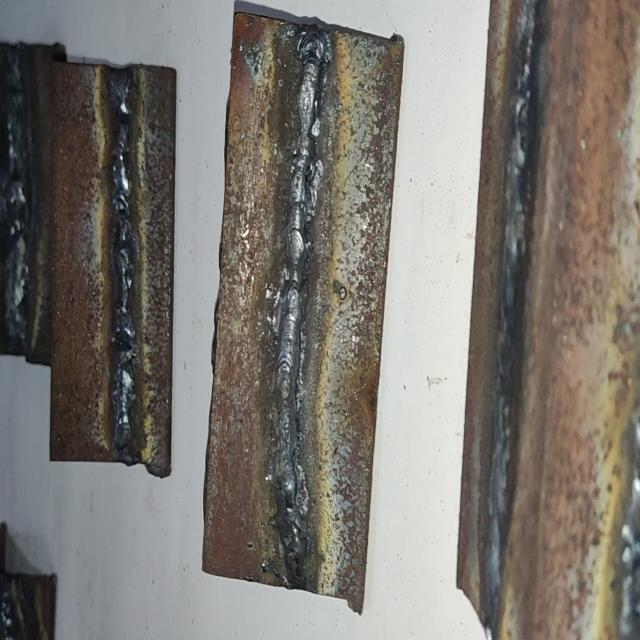Bad Weld: (272, 29, 324, 574), (110, 74, 133, 449), (5, 56, 26, 343)
Defect: (270, 31, 311, 584), (106, 81, 132, 449), (4, 62, 30, 346)
